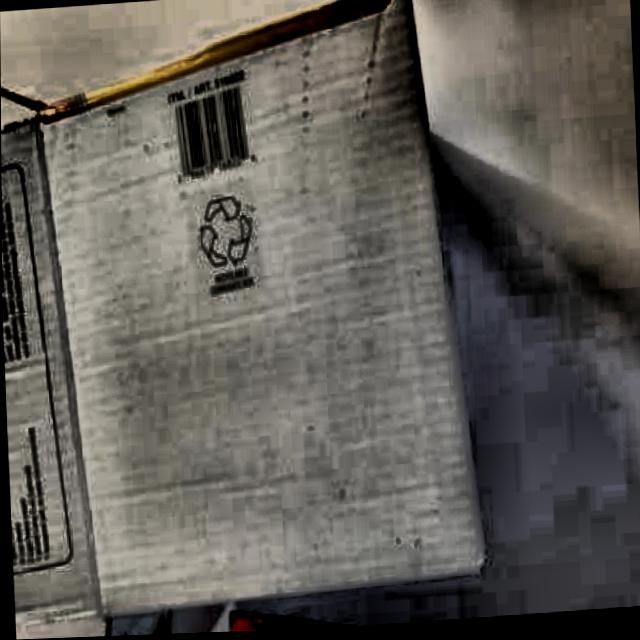Cardbox: (0, 0, 486, 640)
